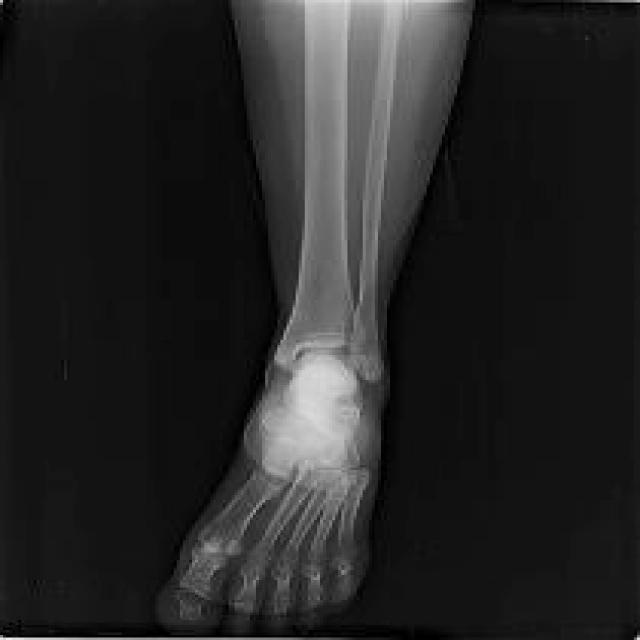normal: (175, 0, 401, 630)
